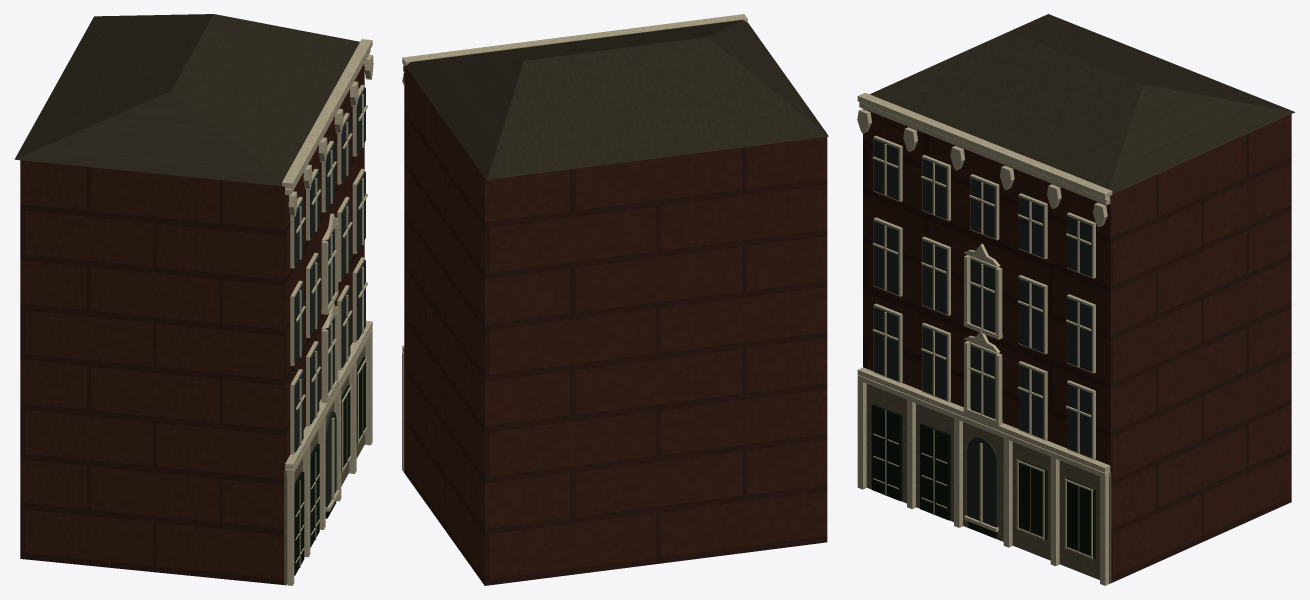
3 renders of one model, left to right at view 1: azimuth 30°, elevation 25°; view 2: azimuth 150°, elevation 25°; view 3: azimuth 270°, elevation 25°, orthographic. The views are drawn at different scales.
Parts seen in each view (by area): view 1: boompjes40-mercurius-0, boompjes40-mercurius-1, boompjes40-mercurius-2, boompjes40-mercurius-3, boompjes40-mercurius-5, boompjes40-mercurius-4; view 2: boompjes40-mercurius-0, boompjes40-mercurius-1, boompjes40-mercurius-2; view 3: boompjes40-mercurius-0, boompjes40-mercurius-1, boompjes40-mercurius-2, boompjes40-mercurius-3, boompjes40-mercurius-5, boompjes40-mercurius-4.
Part boxes in pixels (x1=…): boompjes40-mercurius-0: x1=20, y1=63, x2=364, y2=584; boompjes40-mercurius-1: x1=14, y1=14, x2=359, y2=186; boompjes40-mercurius-2: x1=282, y1=39, x2=373, y2=585; boompjes40-mercurius-3: x1=294, y1=87, x2=365, y2=507; boompjes40-mercurius-5: x1=294, y1=357, x2=365, y2=575; boompjes40-mercurius-4: x1=284, y1=346, x2=365, y2=585; boompjes40-mercurius-0: x1=404, y1=23, x2=827, y2=585; boompjes40-mercurius-1: x1=406, y1=20, x2=828, y2=179; boompjes40-mercurius-2: x1=402, y1=14, x2=747, y2=471; boompjes40-mercurius-0: x1=863, y1=16, x2=1291, y2=582; boompjes40-mercurius-1: x1=870, y1=14, x2=1295, y2=194; boompjes40-mercurius-2: x1=857, y1=92, x2=1112, y2=585; boompjes40-mercurius-3: x1=874, y1=139, x2=1092, y2=527; boompjes40-mercurius-5: x1=871, y1=404, x2=1095, y2=558; boompjes40-mercurius-4: x1=866, y1=384, x2=1111, y2=583.
Bounding box in the file's own units: 18.12 × 20 × 18.23.
Materials: 6 (6 with a texture image).
